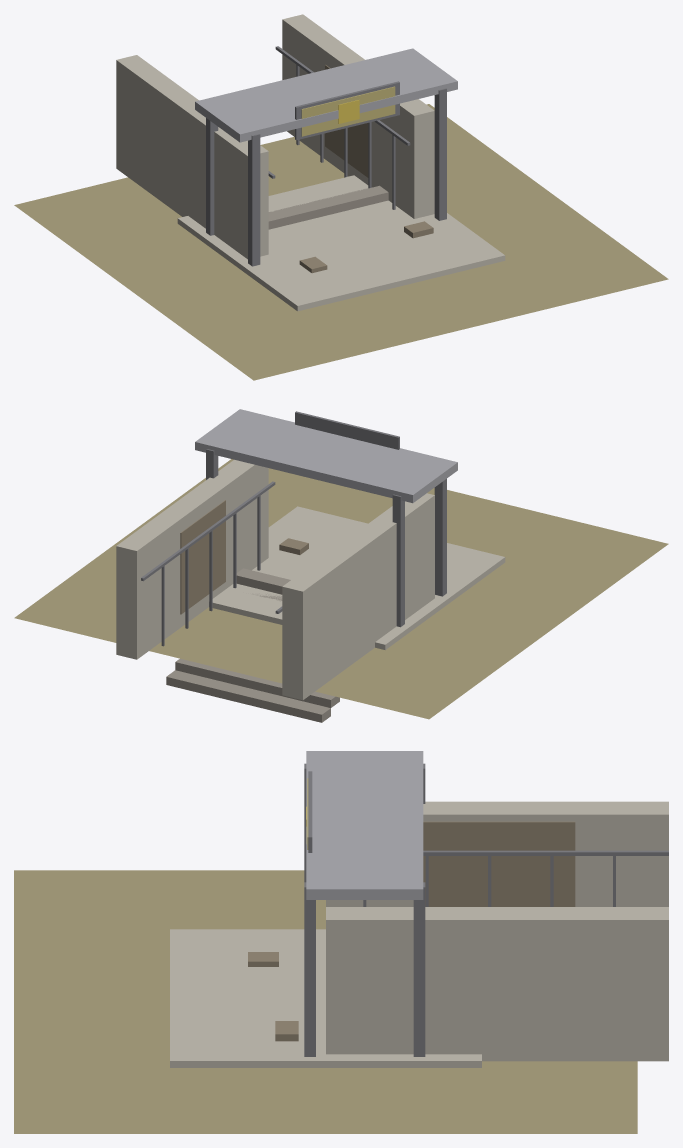
Rendered from subway_entrance.glb.
The picture shows the model from 3 angles, top to bottom: view 1: azimuth 30°, elevation 25°; view 2: azimuth 150°, elevation 25°; view 3: azimuth 270°, elevation 25°; orthographic projection. The views are drawn at different scales.
Parts seen in each view (by area): view 1: Ground, Subway_Base, Wall_Left, Canopy, Wall_Right, Stair_0, Sign_Panel, Post_-1.8_-0.2, Post_1.8_-0.2, Wall_RightDirt, Post_-1.8_1.2, Sign_Back; view 2: Ground, Wall_Left, Wall_Right, Canopy, Subway_Base, Wall_RightDirt, Stair_7, Stair_6, Sign_Back, Post_-1.8_-0.2, Post_-1.8_1.2, Stair_0 (+1 smaller); view 3: Ground, Wall_Right, Subway_Base, Canopy, Wall_Left, Wall_LeftDirt, Post_1.8_1.2, Post_1.8_-0.2, Handrail_-1.
Part boxes in pixels (x1,y1,x2,y2): Ground: (14, 104, 668, 380); Subway_Base: (177, 175, 505, 311); Wall_Left: (116, 55, 268, 259); Canopy: (195, 48, 457, 142); Wall_Right: (282, 14, 434, 218); Stair_0: (268, 185, 388, 229); Sign_Panel: (301, 86, 395, 136); Post_-1.8_-0.2: (248, 134, 260, 266); Post_1.8_-0.2: (434, 88, 446, 220); Wall_RightDirt: (325, 65, 368, 177); Post_-1.8_1.2: (206, 118, 218, 235); Sign_Back: (295, 81, 399, 140); Ground: (14, 459, 668, 719); Wall_Left: (282, 493, 434, 700); Wall_Right: (116, 459, 268, 659); Canopy: (195, 409, 457, 503); Subway_Base: (209, 506, 505, 649); Wall_RightDirt: (180, 500, 225, 614); Stair_7: (166, 670, 330, 722); Stair_6: (175, 658, 339, 707); Sign_Back: (295, 411, 399, 449); Post_-1.8_-0.2: (434, 478, 446, 596); Post_-1.8_1.2: (392, 494, 404, 627); Stair_0: (236, 568, 290, 594); Ground: (14, 870, 637, 1133); Wall_Right: (326, 907, 668, 1061); Subway_Base: (170, 929, 481, 1067); Canopy: (306, 751, 423, 899); Wall_Left: (326, 801, 668, 906); Wall_LeftDirt: (423, 821, 575, 906); Post_1.8_1.2: (413, 882, 425, 1056); Post_1.8_-0.2: (304, 882, 315, 1056); Handrail_-1: (423, 850, 668, 855).
Size of the model in its own units: 8 by 3.75 by 8.4.
